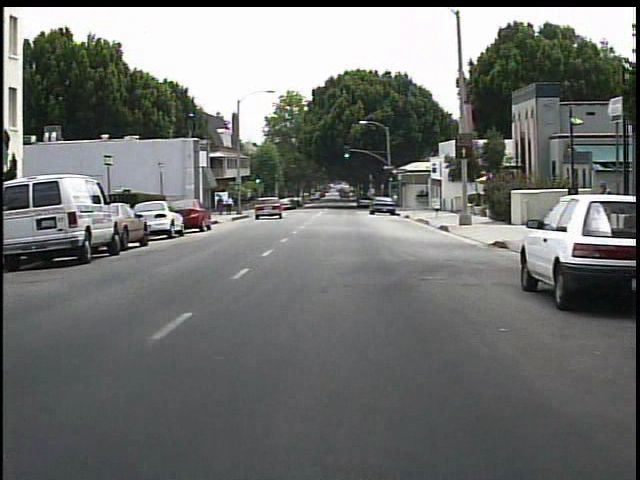person: (215, 195, 228, 218), (225, 195, 236, 218)
